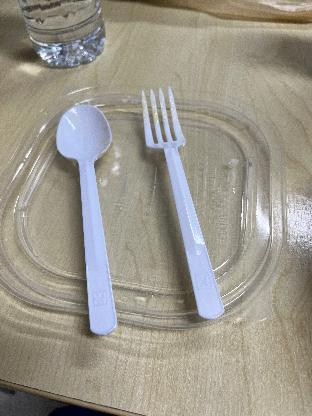Others: (132, 84, 234, 320), (56, 94, 134, 340)
